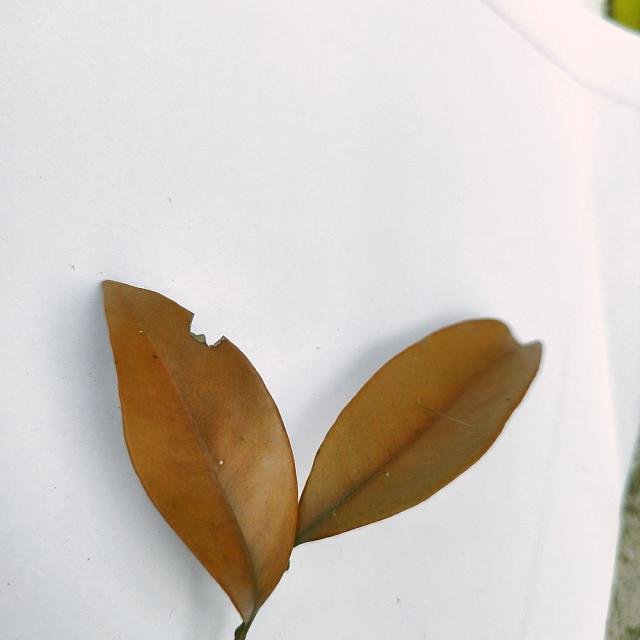Dry_Leaf-Lychee: (100, 280, 543, 639)
